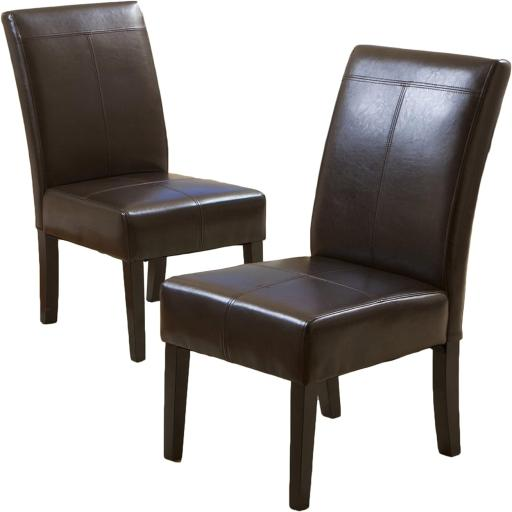chair: (154, 41, 506, 488)
